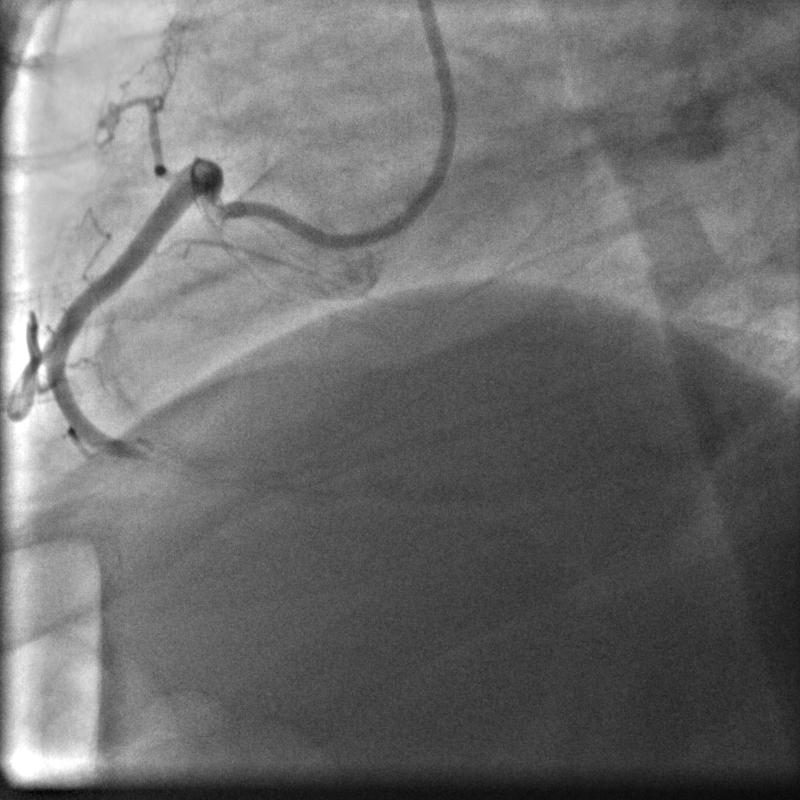Stenosis: (117, 441, 162, 469)
